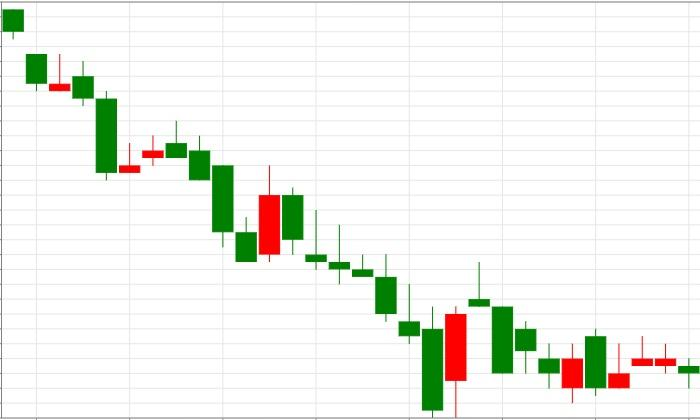bullish_engulfing_rise: (258, 165, 467, 418), (165, 120, 281, 263)
inverse_hammer_rise: (468, 261, 631, 403)
